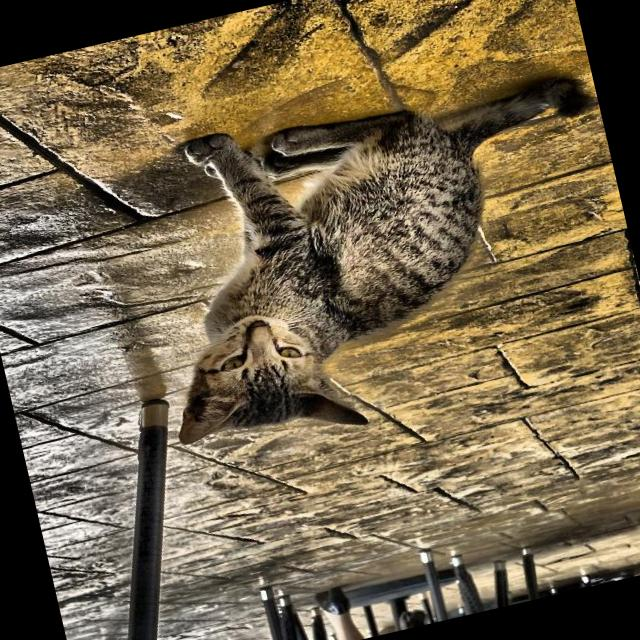Healthy skin: (296, 205, 416, 302), (182, 369, 268, 432)
